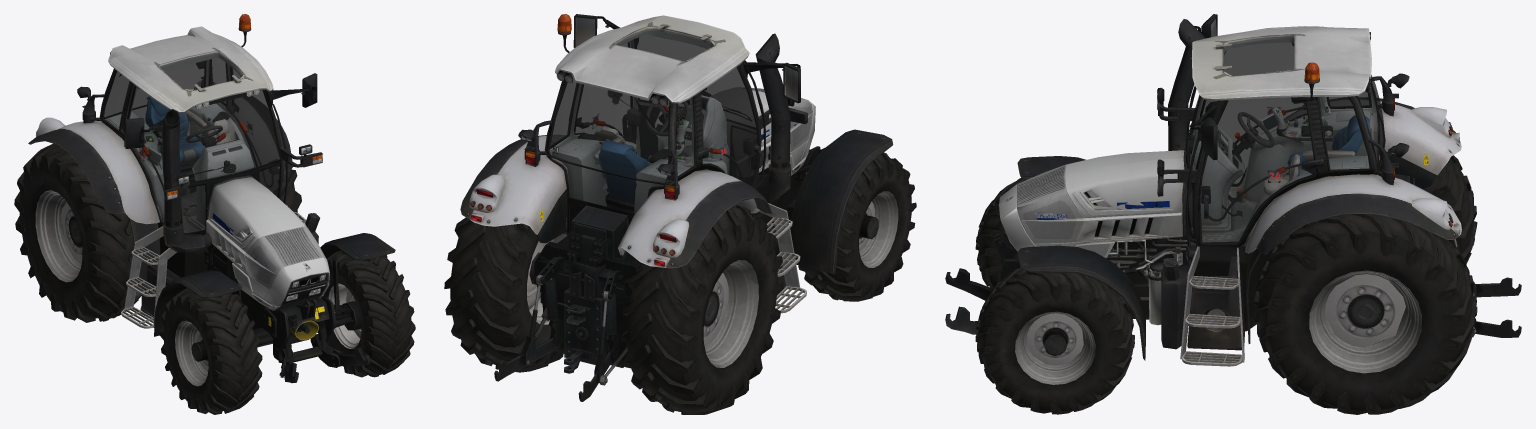
File: tractor_optimized.glb
3 renders of one model, left to right at view 1: azimuth 30°, elevation 25°; view 2: azimuth 150°, elevation 25°; view 3: azimuth 270°, elevation 25°, orthographic. The views are drawn at different scales.
Visible parts, largest first — view 1: lamborghini_BODY_Cuz_0, lamborghini_SUB2_Shin_0, WINDOW_Lob_0, lamborghini_COCKPIT_Salon_0, WINDOW_IN_in_win_0, lamborghini_Nacl_0; view 2: lamborghini_BODY_Cuz_0, lamborghini_SUB2_Shin_0, WINDOW_Lob_0, lamborghini_COCKPIT_Salon_0, WINDOW_IN_in_win_0, MIRROR_R_MIRROR_0; view 3: lamborghini_BODY_Cuz_0, lamborghini_SUB2_Shin_0, WINDOW_Lob_0, lamborghini_COCKPIT_Salon_0, WINDOW_IN_in_win_0, lamborghini_Nacl_0.
Part boxes in pixels (x1,y1,x2,y2): lamborghini_BODY_Cuz_0: (28, 14, 395, 383); lamborghini_SUB2_Shin_0: (14, 143, 415, 414); WINDOW_Lob_0: (104, 52, 279, 233); lamborghini_COCKPIT_Salon_0: (106, 54, 279, 232); WINDOW_IN_in_win_0: (108, 59, 279, 158); lamborghini_Nacl_0: (139, 87, 324, 326); lamborghini_BODY_Cuz_0: (460, 14, 893, 401); lamborghini_SUB2_Shin_0: (444, 152, 916, 414); WINDOW_Lob_0: (549, 29, 758, 213); lamborghini_COCKPIT_Salon_0: (549, 30, 757, 234); WINDOW_IN_in_win_0: (553, 35, 754, 181); MIRROR_R_MIRROR_0: (576, 17, 798, 100); lamborghini_BODY_Cuz_0: (945, 14, 1521, 366); lamborghini_SUB2_Shin_0: (975, 155, 1477, 414); WINDOW_Lob_0: (1188, 36, 1385, 241); lamborghini_COCKPIT_Salon_0: (1188, 38, 1378, 246); WINDOW_IN_in_win_0: (1190, 43, 1383, 182); lamborghini_Nacl_0: (1003, 109, 1428, 219).
Bounding box in the file's own units: 0.0253 × 0.033 × 0.0507.
Materials: 7 (5 with a texture image).
